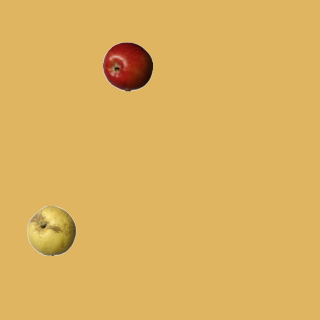Apple Braeburn: (102, 41, 152, 91)
Apple Golden 1: (26, 205, 76, 255)
